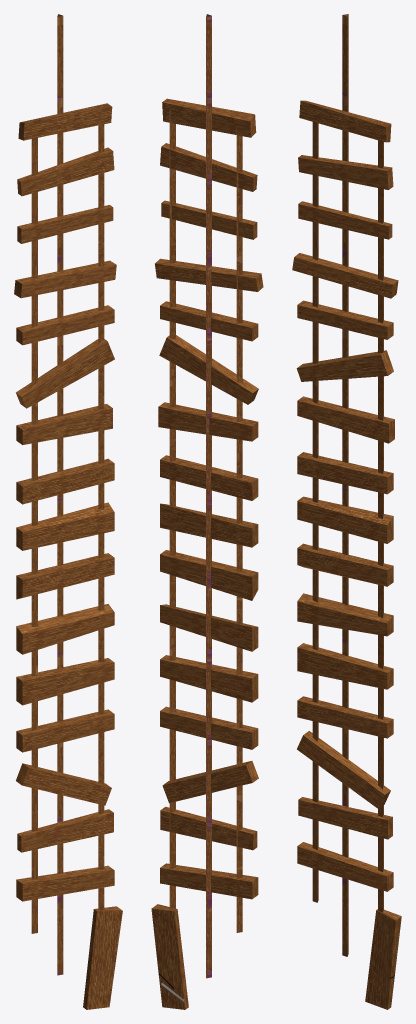
File: Echelle_tente.fbx
The picture shows the model from 3 angles, left to right: view 1: azimuth 30°, elevation 25°; view 2: azimuth 150°, elevation 25°; view 3: azimuth 330°, elevation 25°; orthographic projection. The views are drawn at different scales.
Parts seen in each view (by area): view 1: echelle_tente_suspendu; view 2: echelle_tente_suspendu; view 3: echelle_tente_suspendu.
Part boxes in pixels (bbox=[...]): echelle_tente_suspendu: bbox=[14, 14, 122, 1009]; echelle_tente_suspendu: bbox=[151, 14, 263, 1009]; echelle_tente_suspendu: bbox=[292, 14, 401, 1009].
Size of the model in its own units: 81.65 by 747 by 13.59.
1 material, 1 textured.
